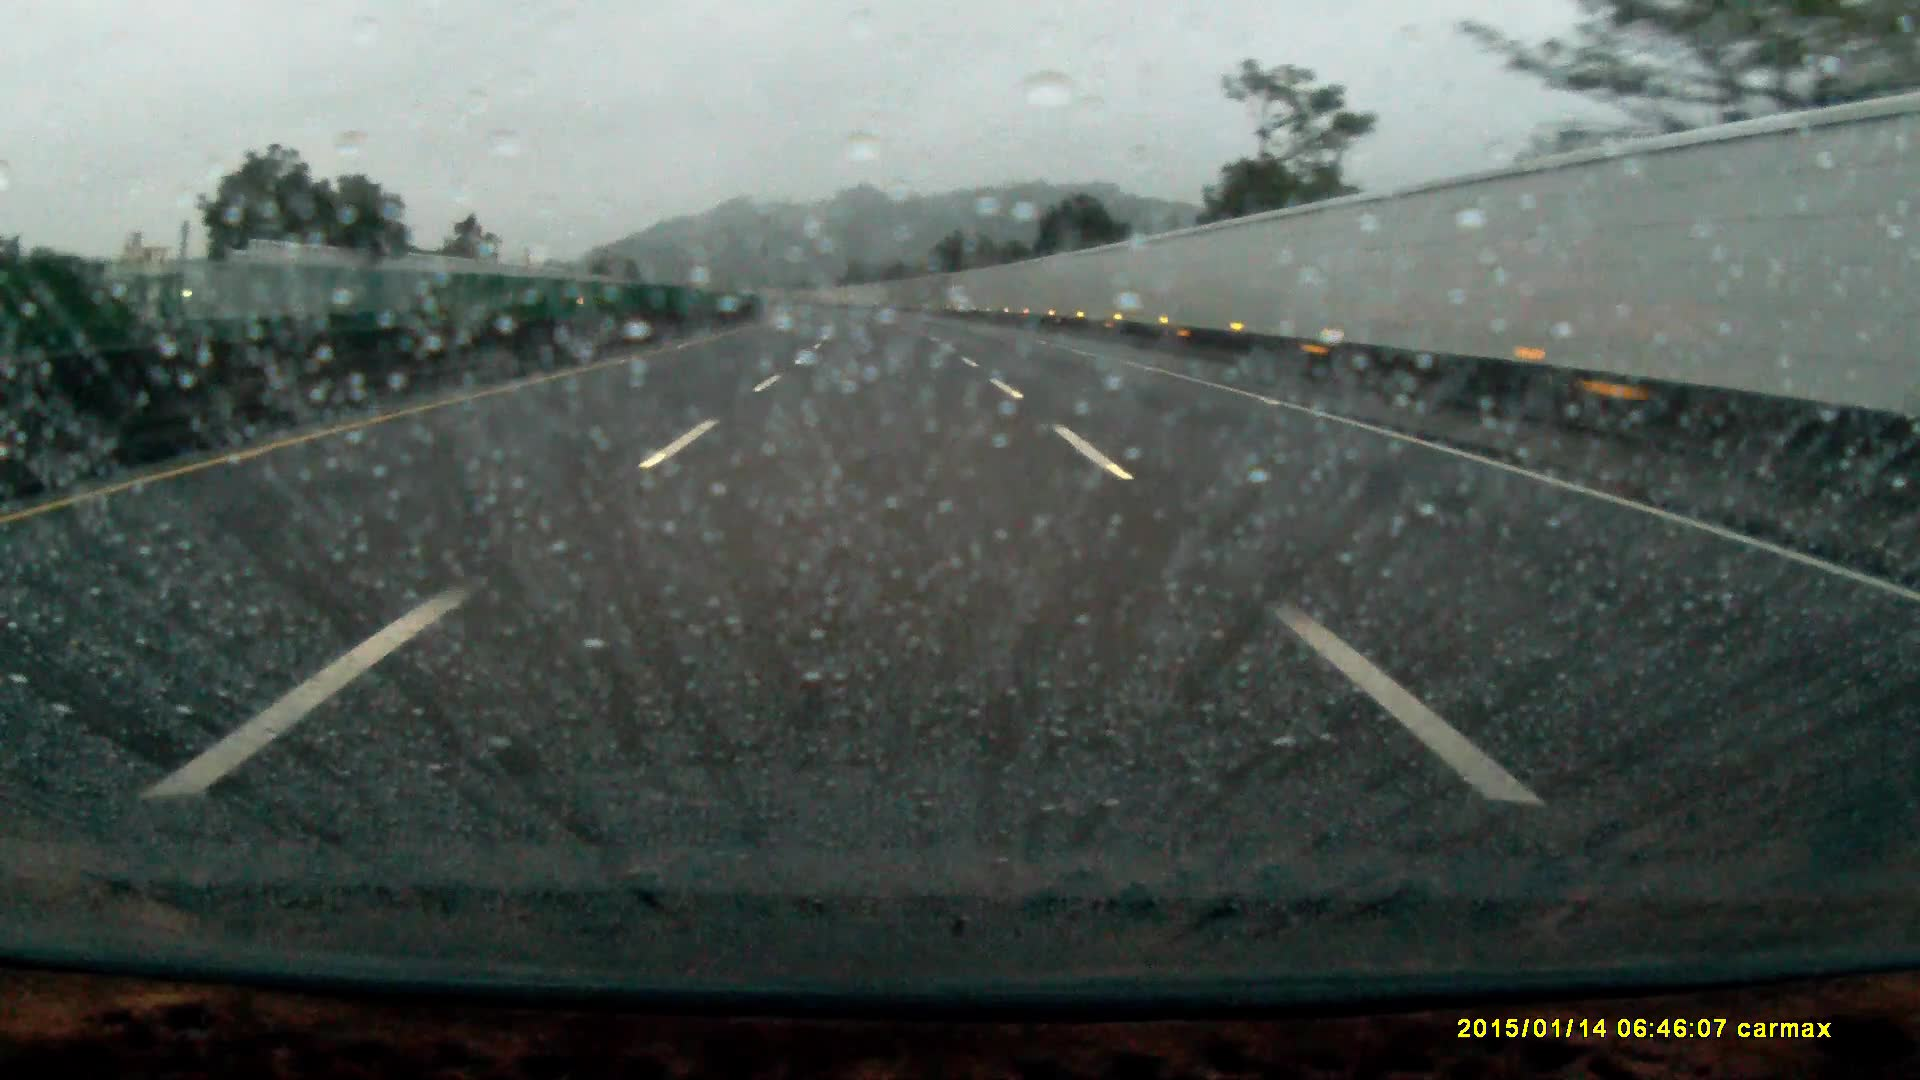vehicle: (431, 291, 502, 328)
